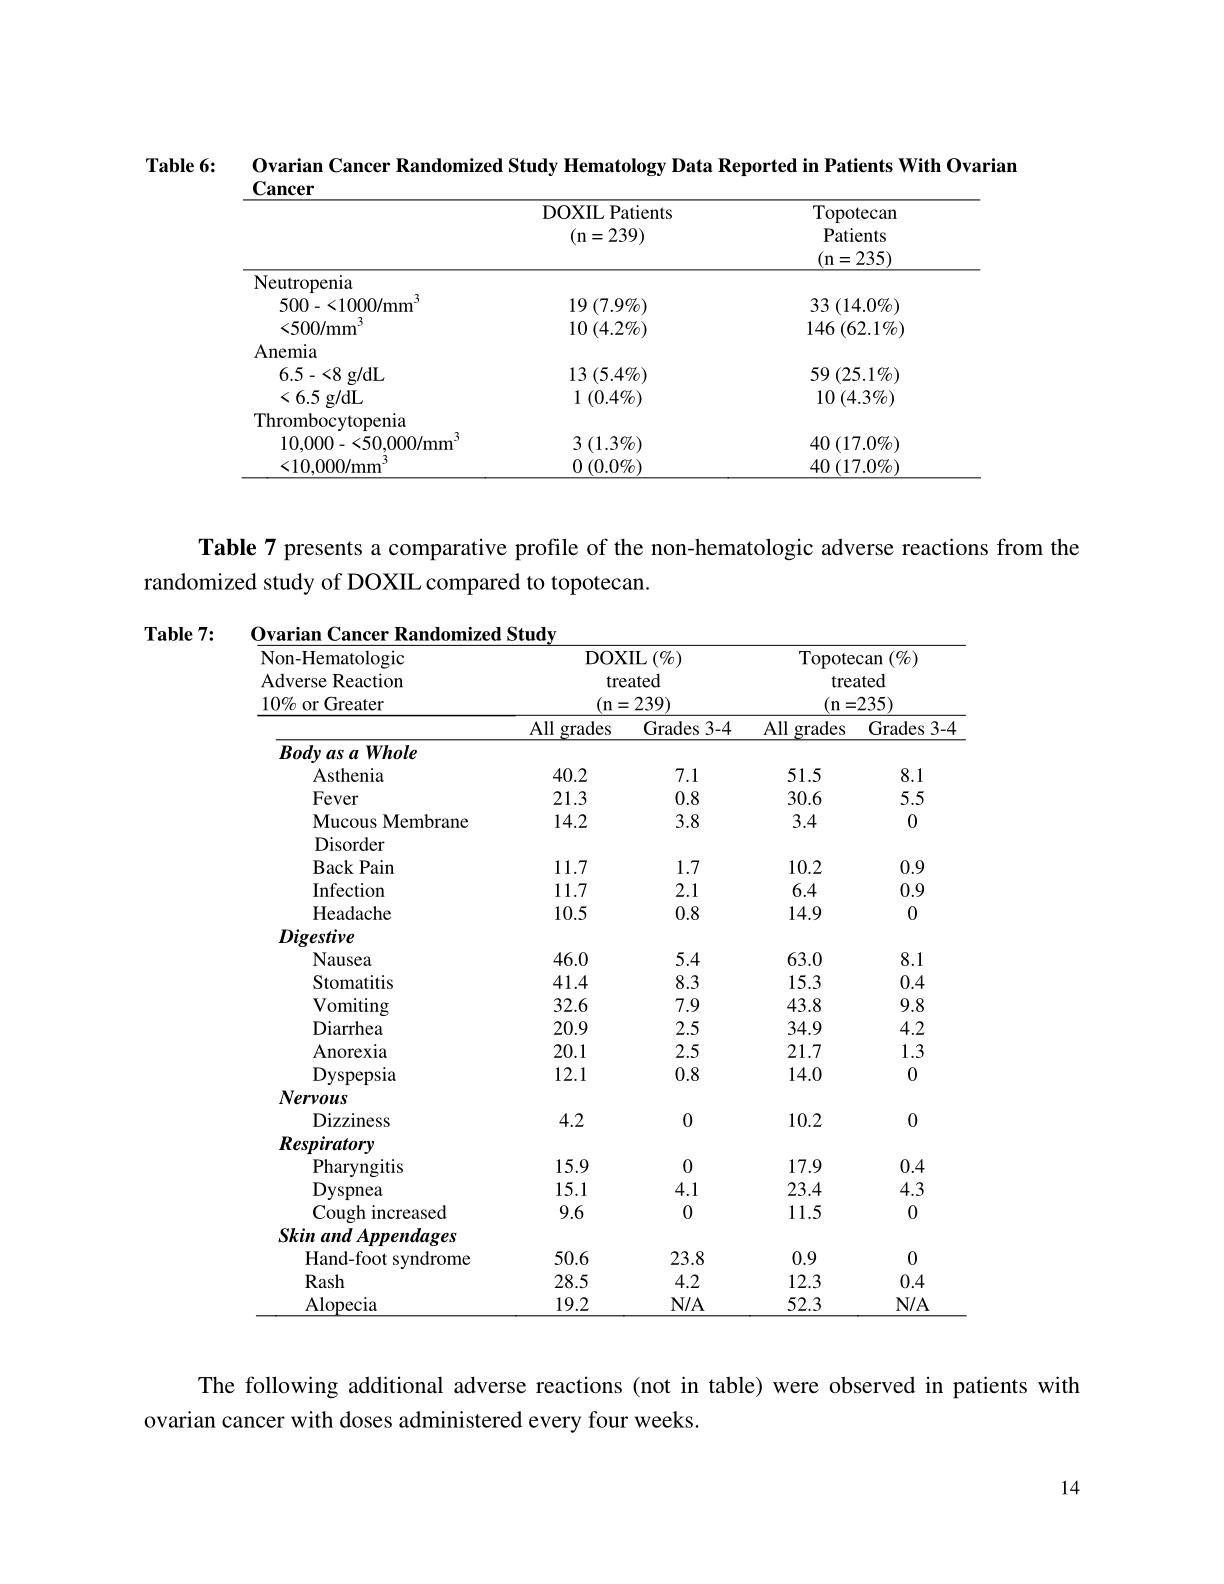partial_lined: (240, 197, 982, 480)
partial_lined_merged_cells: (255, 643, 969, 1318)
